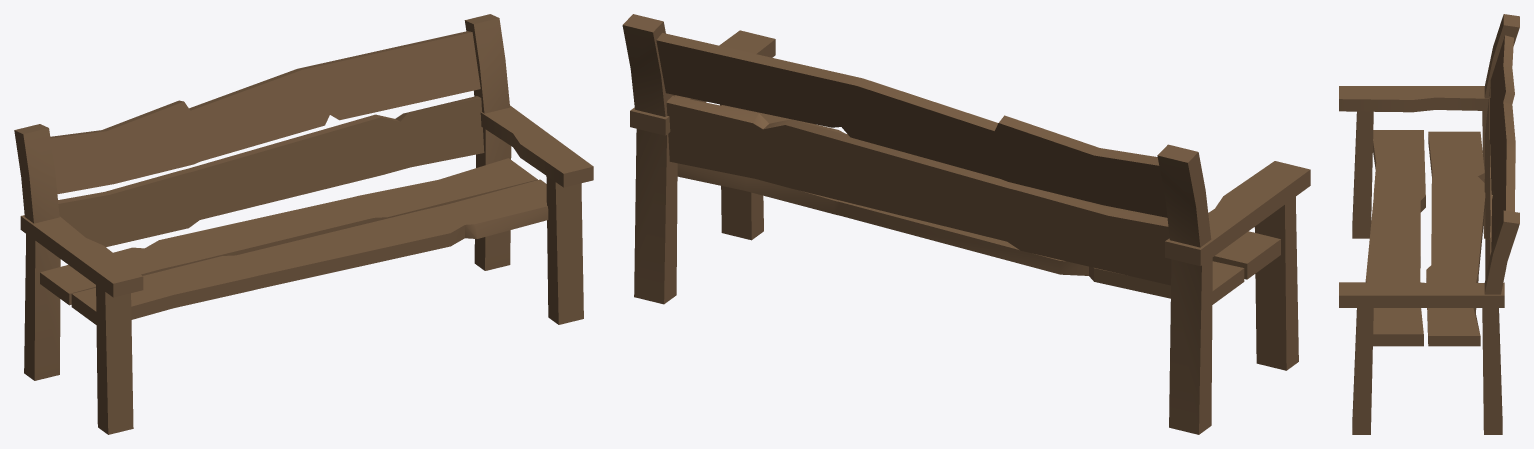
The model's file is bench.glb.
3 views of the same model, side by side, from view 1: azimuth 30°, elevation 25°; view 2: azimuth 150°, elevation 25°; view 3: azimuth 270°, elevation 25° (orthographic). The views are drawn at different scales.
Visible parts, largest first — view 1: lod0; view 2: lod0; view 3: lod0.
Part boxes in pixels (left/top/right/bottom): lod0: left=14, top=14, right=593, bottom=434; lod0: left=622, top=14, right=1310, bottom=434; lod0: left=1339, top=14, right=1519, bottom=434.
Size of what is drawn, in the model's own units: 1.8 by 0.8548 by 0.6562.
